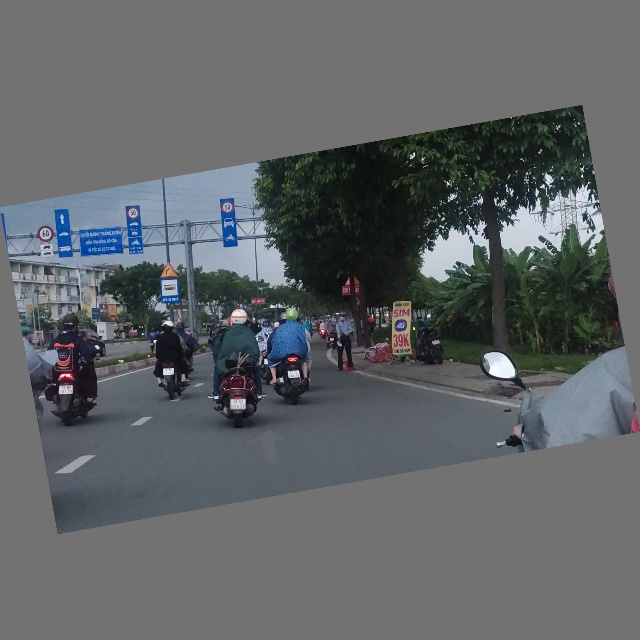I.434a: (157, 277, 182, 306)
P.127*50: (220, 200, 235, 216), (125, 206, 140, 221)
P.127*60: (36, 225, 55, 244)
S.505a*Xe tai va cong: (39, 243, 55, 260)
W.201b: (158, 262, 178, 280)
